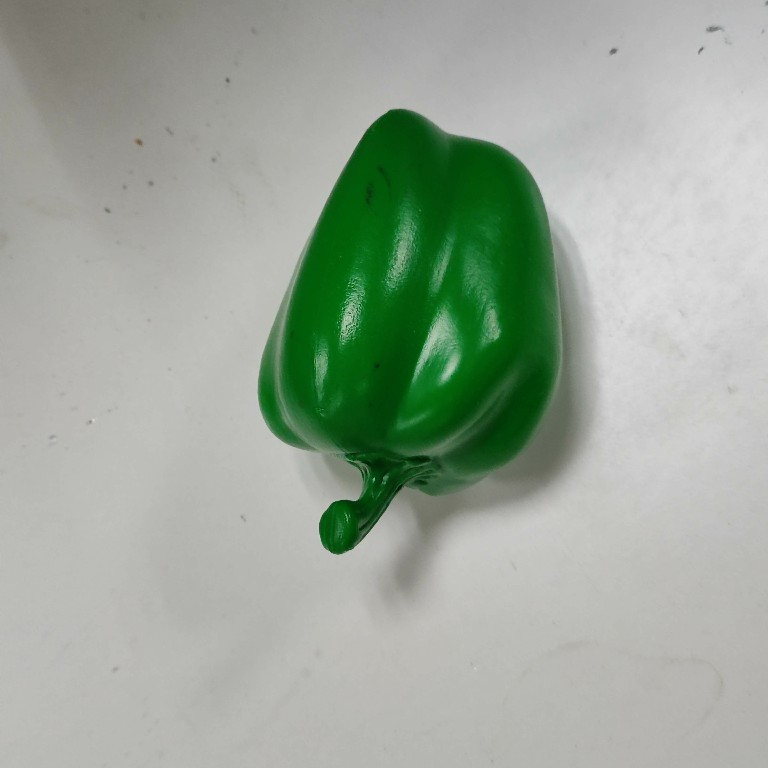fruit_pepper: (254, 105, 567, 556)
